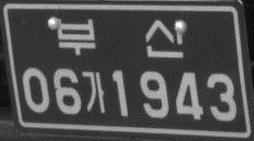0: (21, 66, 51, 113)
1: (111, 68, 131, 118)
3: (205, 71, 237, 123)
4: (174, 70, 204, 121)
6: (51, 66, 82, 117)
9: (138, 69, 171, 119)
가: (79, 69, 107, 114)
부산_D: (54, 16, 186, 61)
